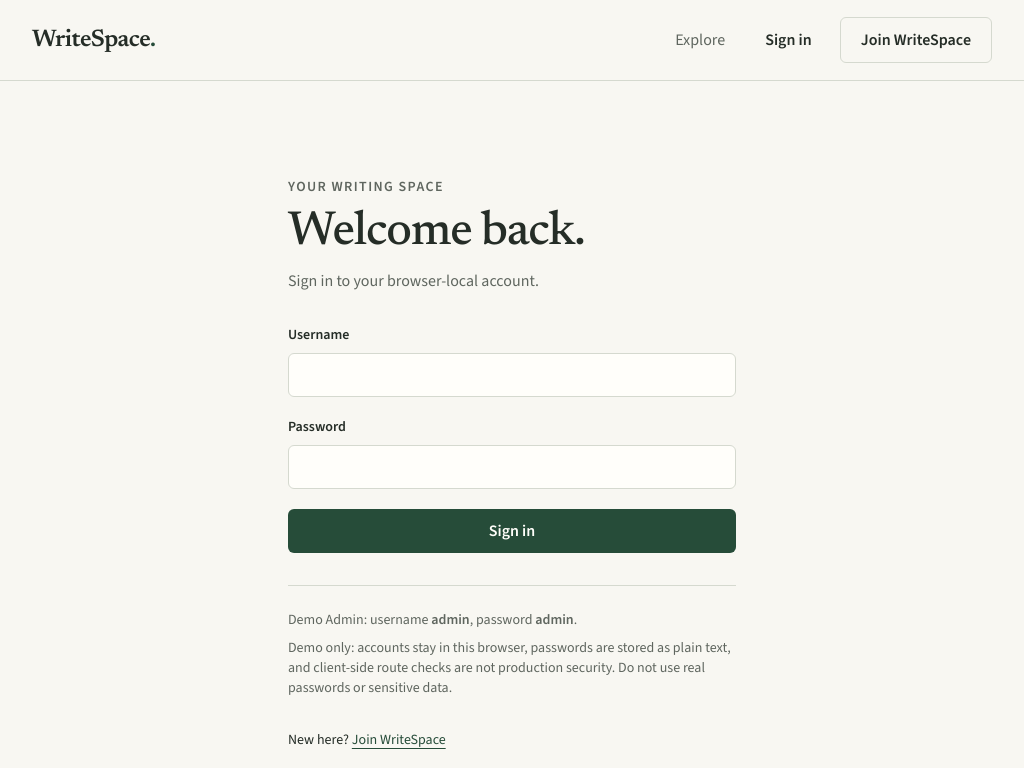
it: validation and storage failure feedback › shows the exact invalid-login message and preserves typed values
Type "missing" into the field labelled "Username" at x=512, y=375, box [288,353,736,397]
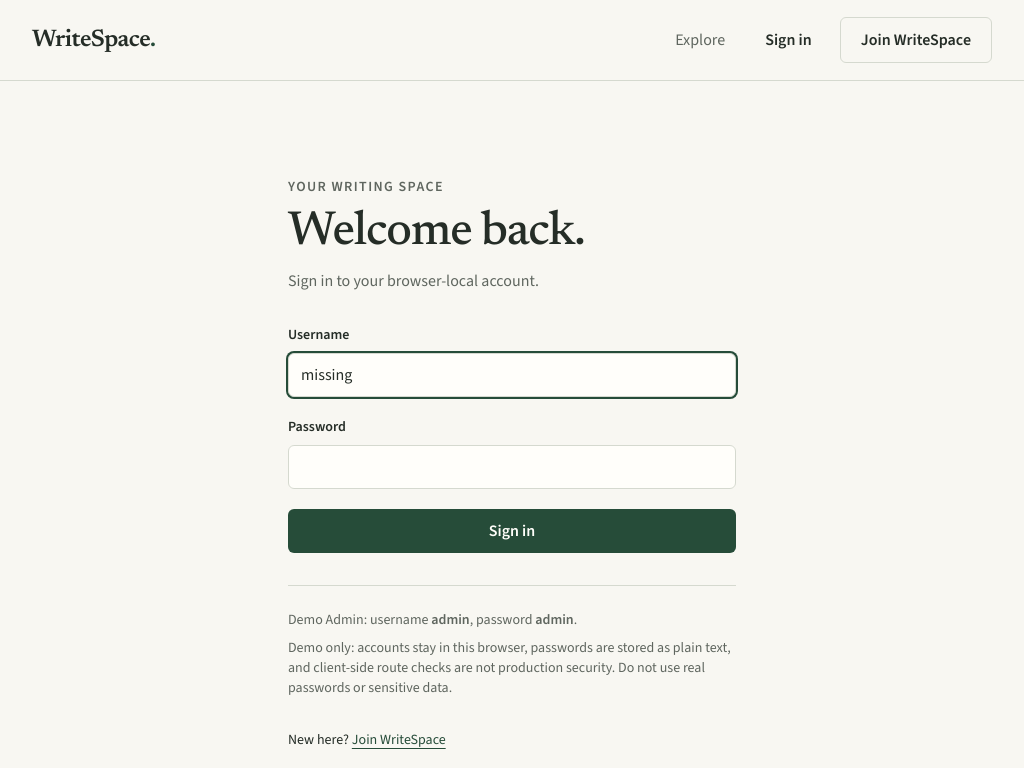
Type "wrong" into the password field labelled "Password" at x=512, y=467, box [288,445,736,489]
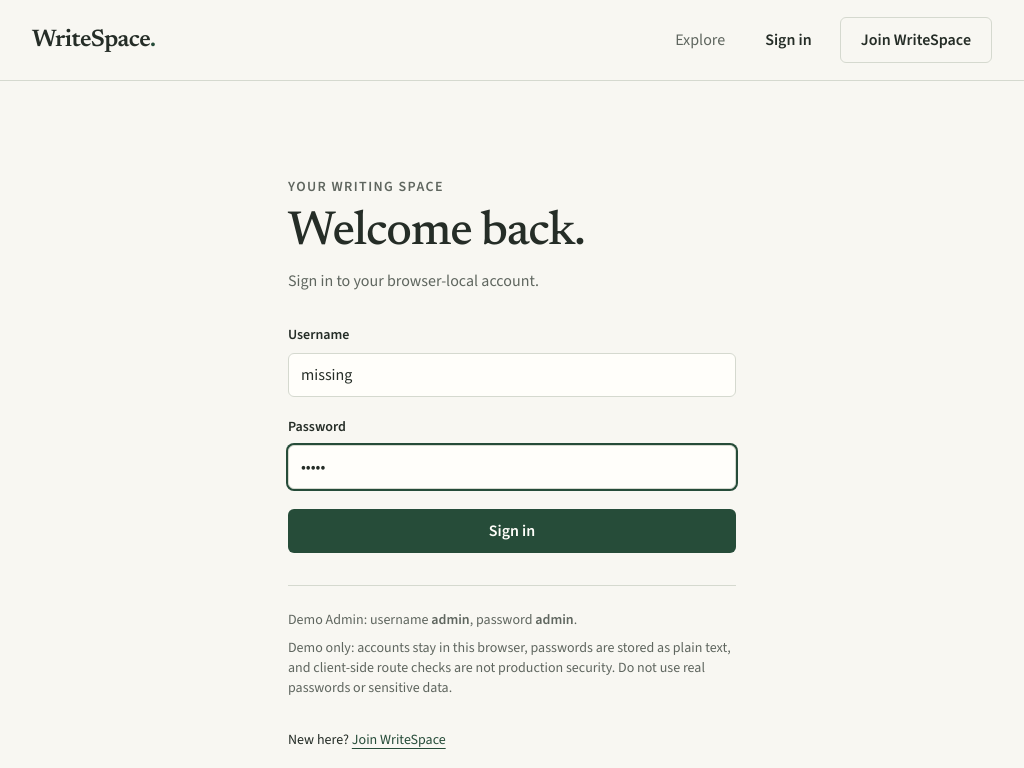
Click the button "Sign in" at x=512, y=531, box [288,509,736,553]
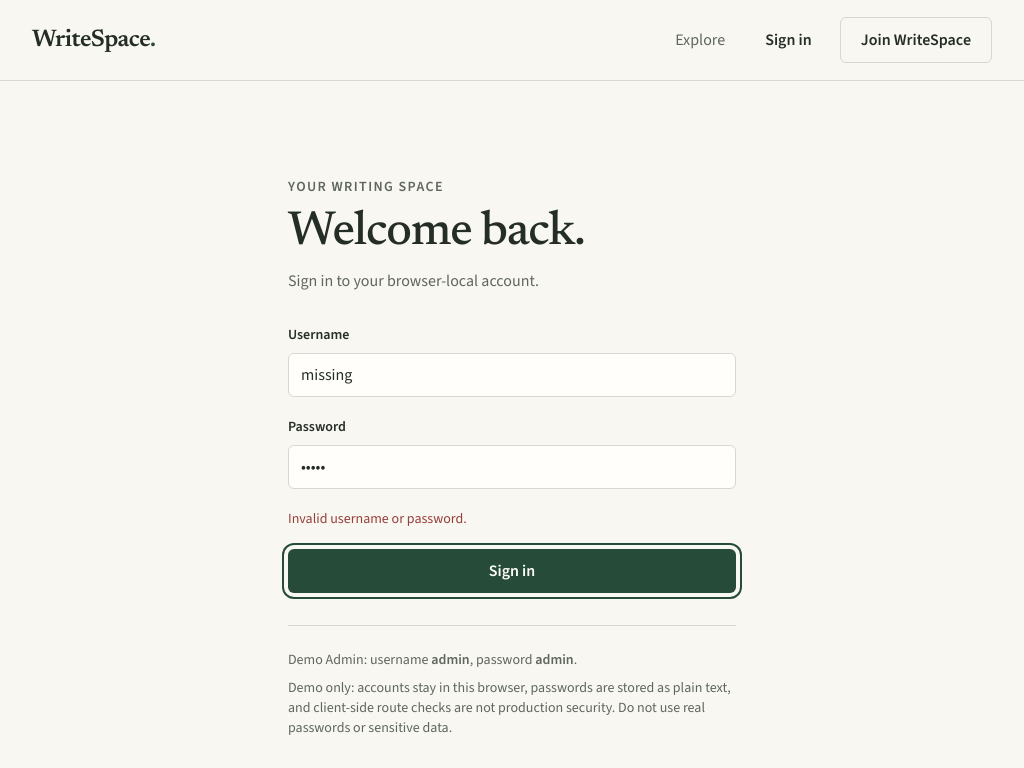
Now the message reads "Invalid username or password.", box [288,509,467,528]
